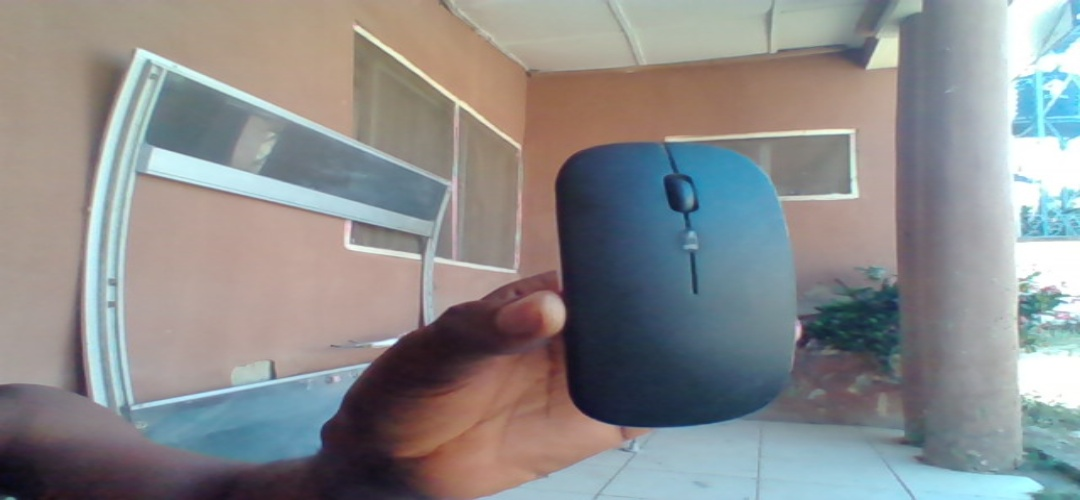wireless_mouse: (553, 138, 802, 435)
